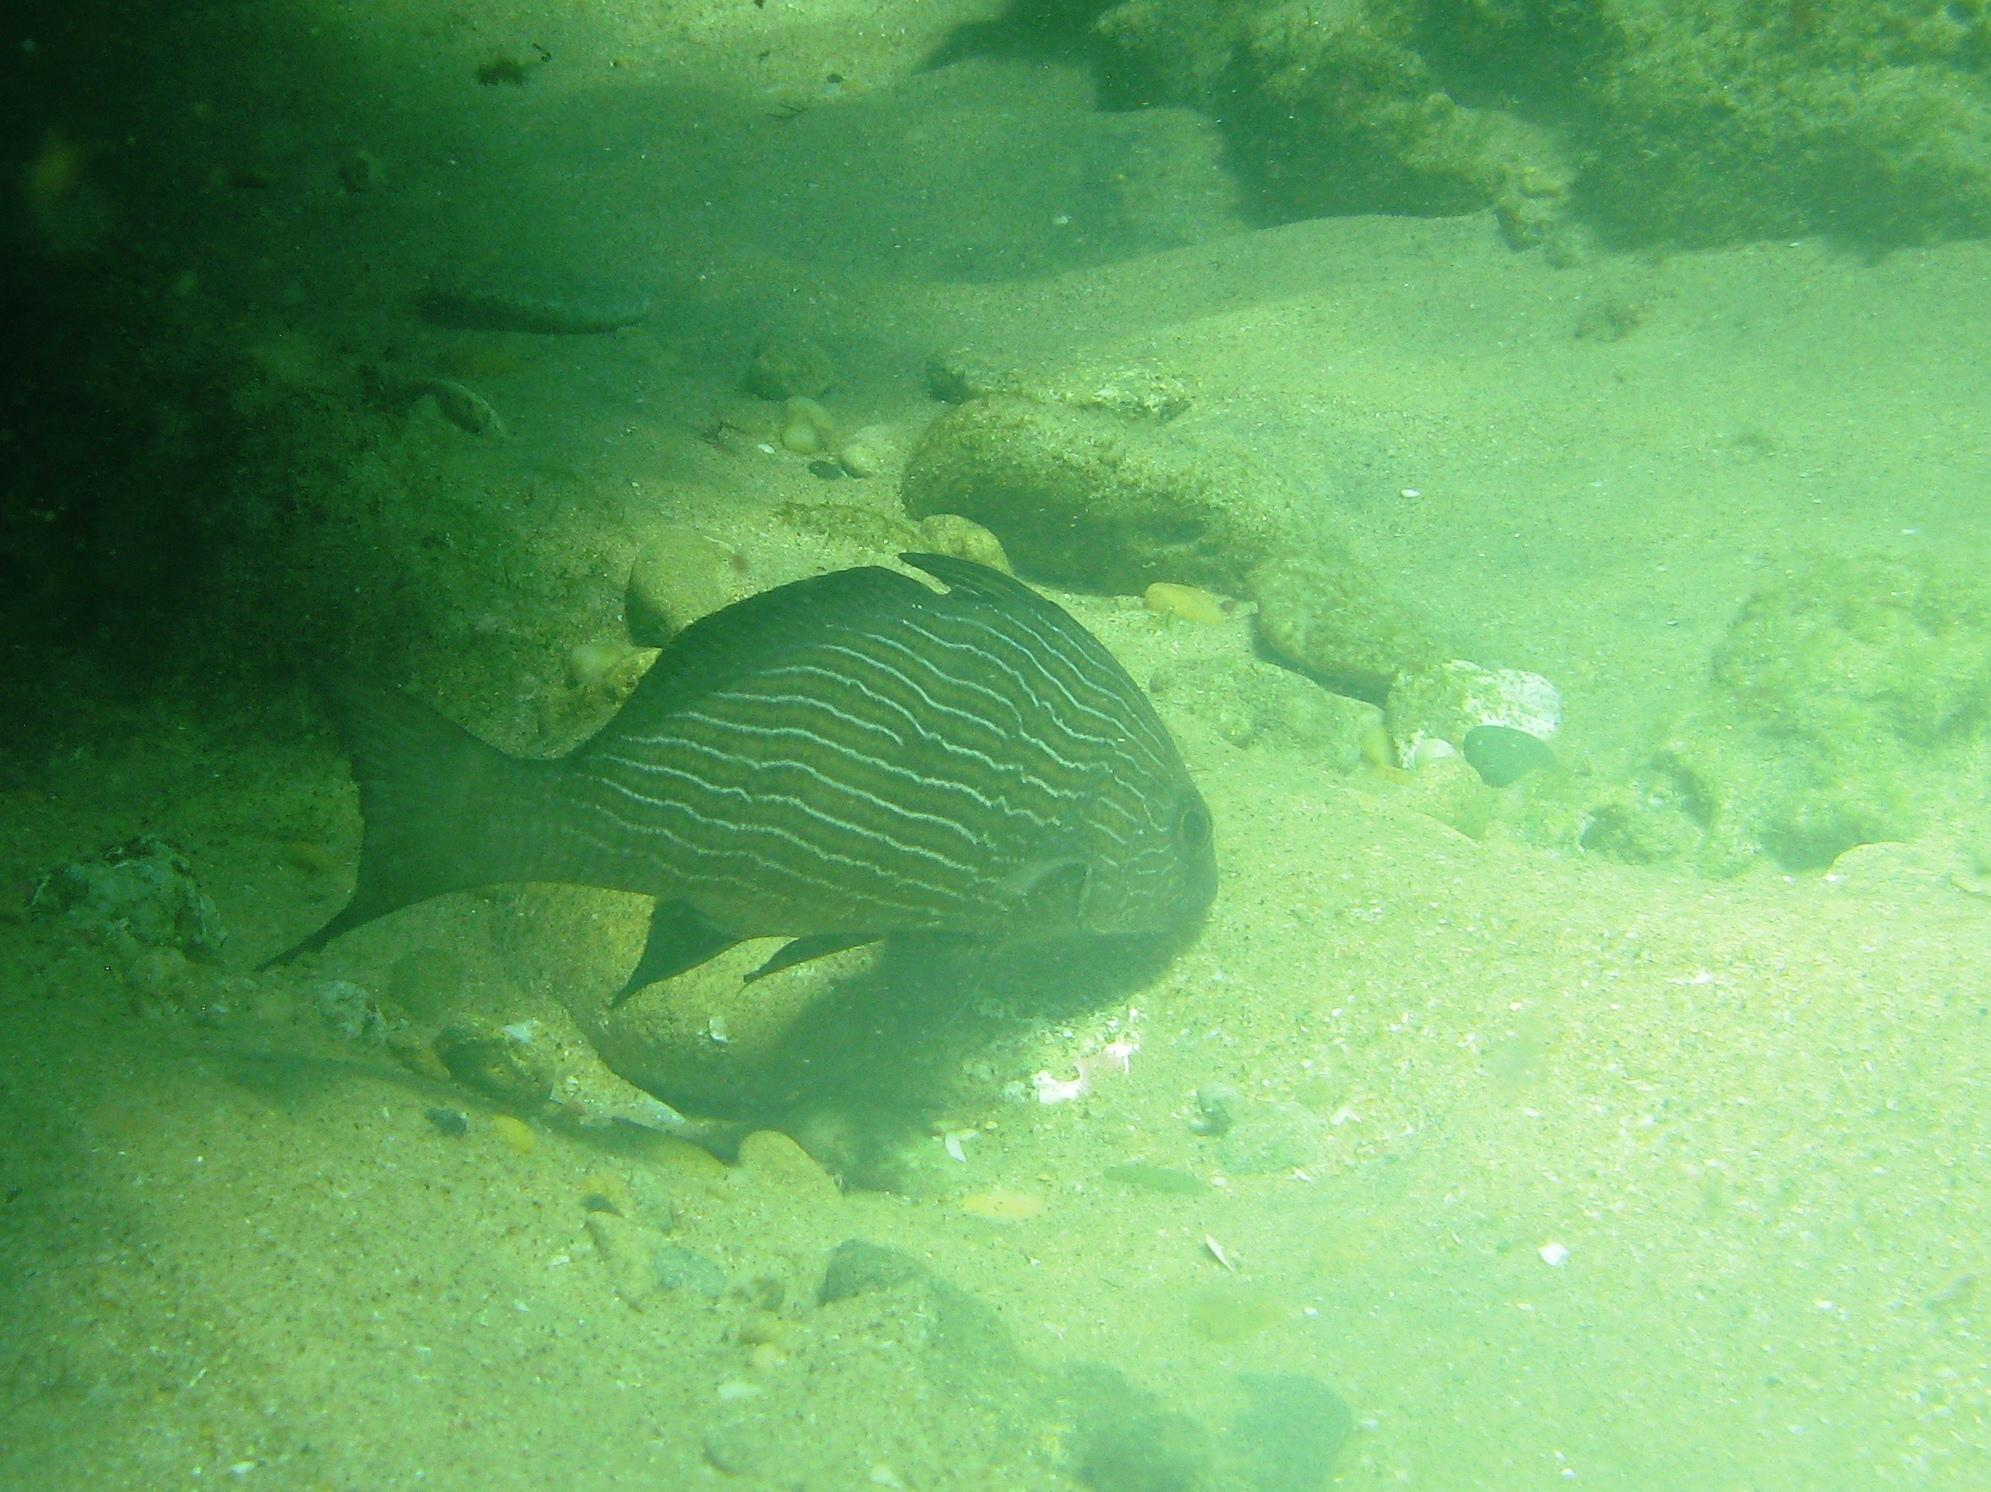Fish: (266, 523, 1241, 1094)
